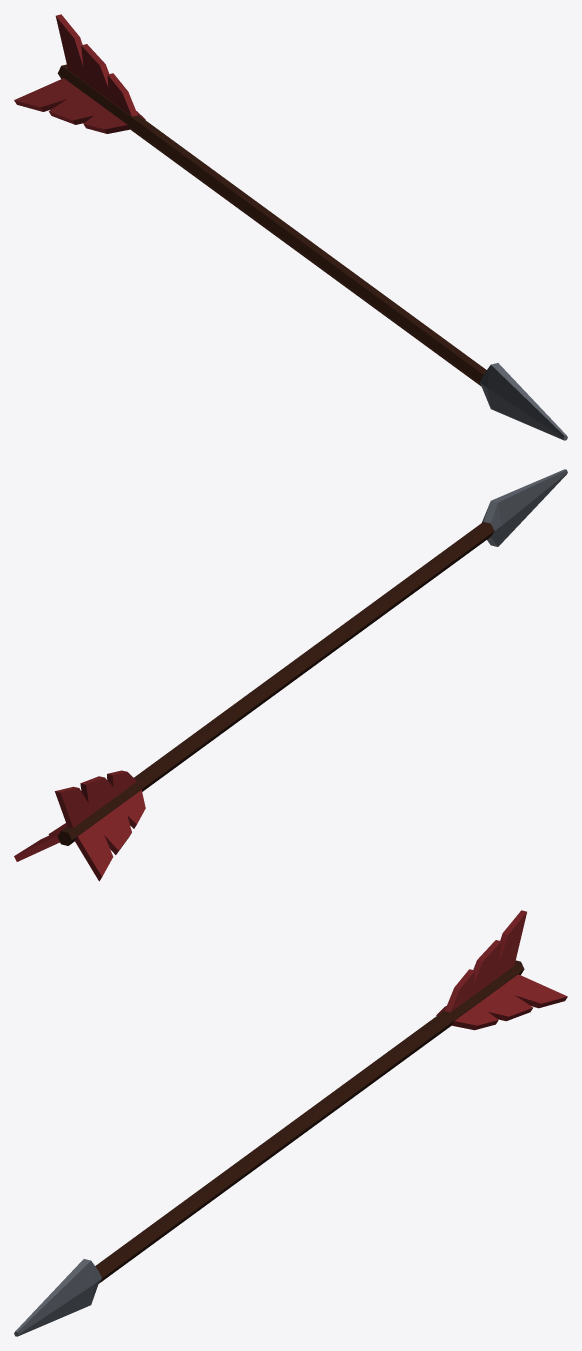
Rendered from Arrow.obj.
The picture shows the model from 3 angles, top to bottom: view 1: azimuth 30°, elevation 25°; view 2: azimuth 150°, elevation 25°; view 3: azimuth 330°, elevation 25°; orthographic projection.
Visible parts, largest first — view 1: Arrow_Cylinder.001; view 2: Arrow_Cylinder.001; view 3: Arrow_Cylinder.001.
Boxes of the visible parts, x1,y1,x2,y2 form: Arrow_Cylinder.001: (14,14,567,440); Arrow_Cylinder.001: (14,469,567,881); Arrow_Cylinder.001: (14,910,567,1336).
Size of the model in its own units: 0.2741 by 0.2383 by 2.73.
